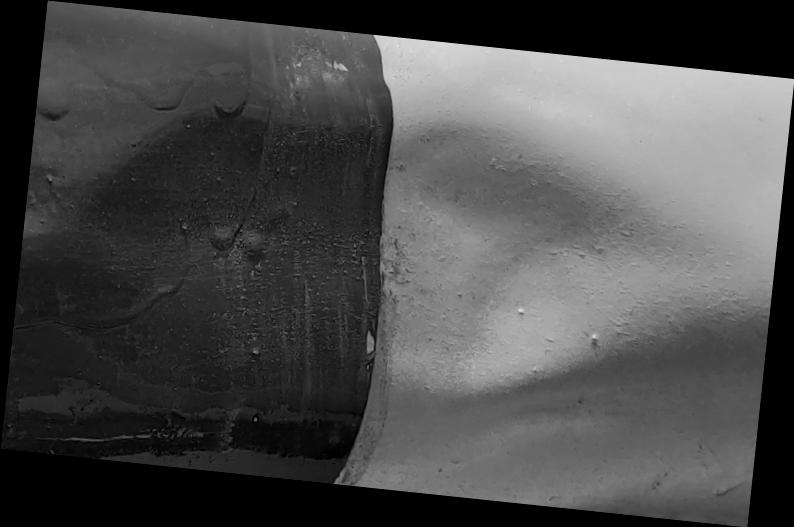dent: (1, 1, 794, 527)
